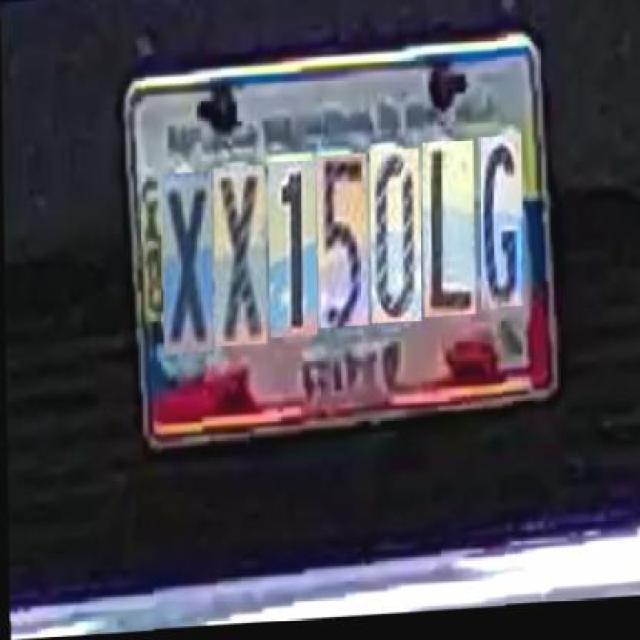0: (369, 154, 420, 329)
1: (268, 163, 317, 342)
5: (315, 158, 368, 333)
g: (479, 142, 523, 316)
l: (420, 146, 474, 323)
x: (212, 169, 266, 349), (160, 174, 212, 355)
